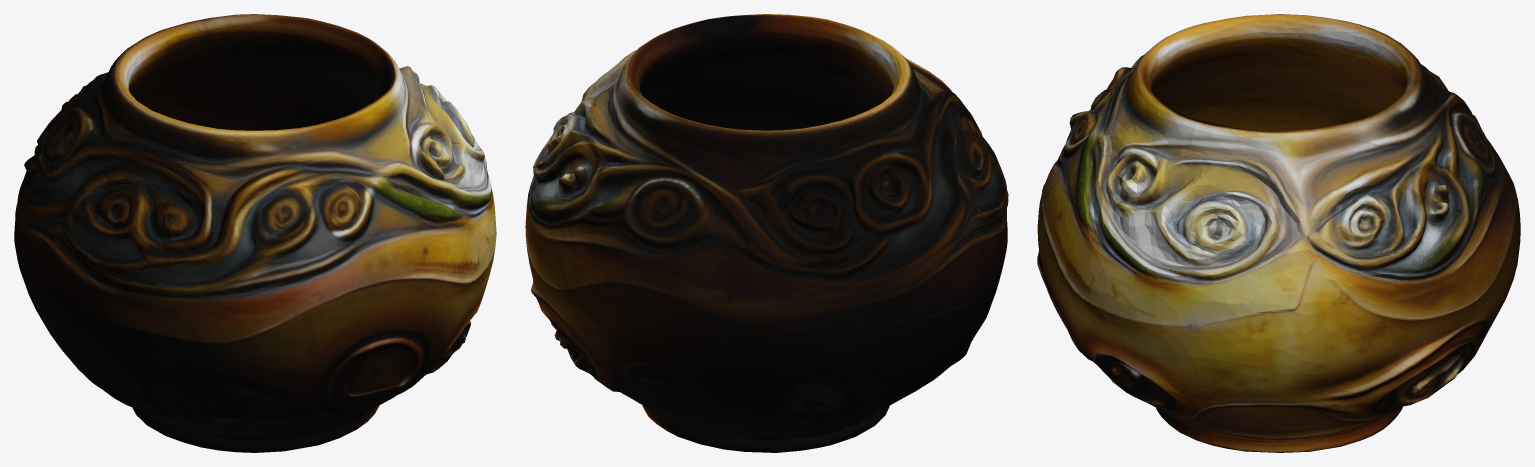
The model's file is ceramic-handmade-pottery-rustic.jpeg.glb.
The picture shows the model from 3 angles, left to right: view 1: azimuth 30°, elevation 25°; view 2: azimuth 150°, elevation 25°; view 3: azimuth 270°, elevation 25°; orthographic projection.
Visible parts, largest first — view 1: world; view 2: world; view 3: world.
Part boxes in pixels (bbox=[...]): world: bbox=[14, 14, 496, 452]; world: bbox=[525, 14, 1008, 452]; world: bbox=[1037, 14, 1520, 452].
Bounding box in the file's own units: 0.9988 × 0.7548 × 0.9989.
Materials: 1 (1 with a texture image).
